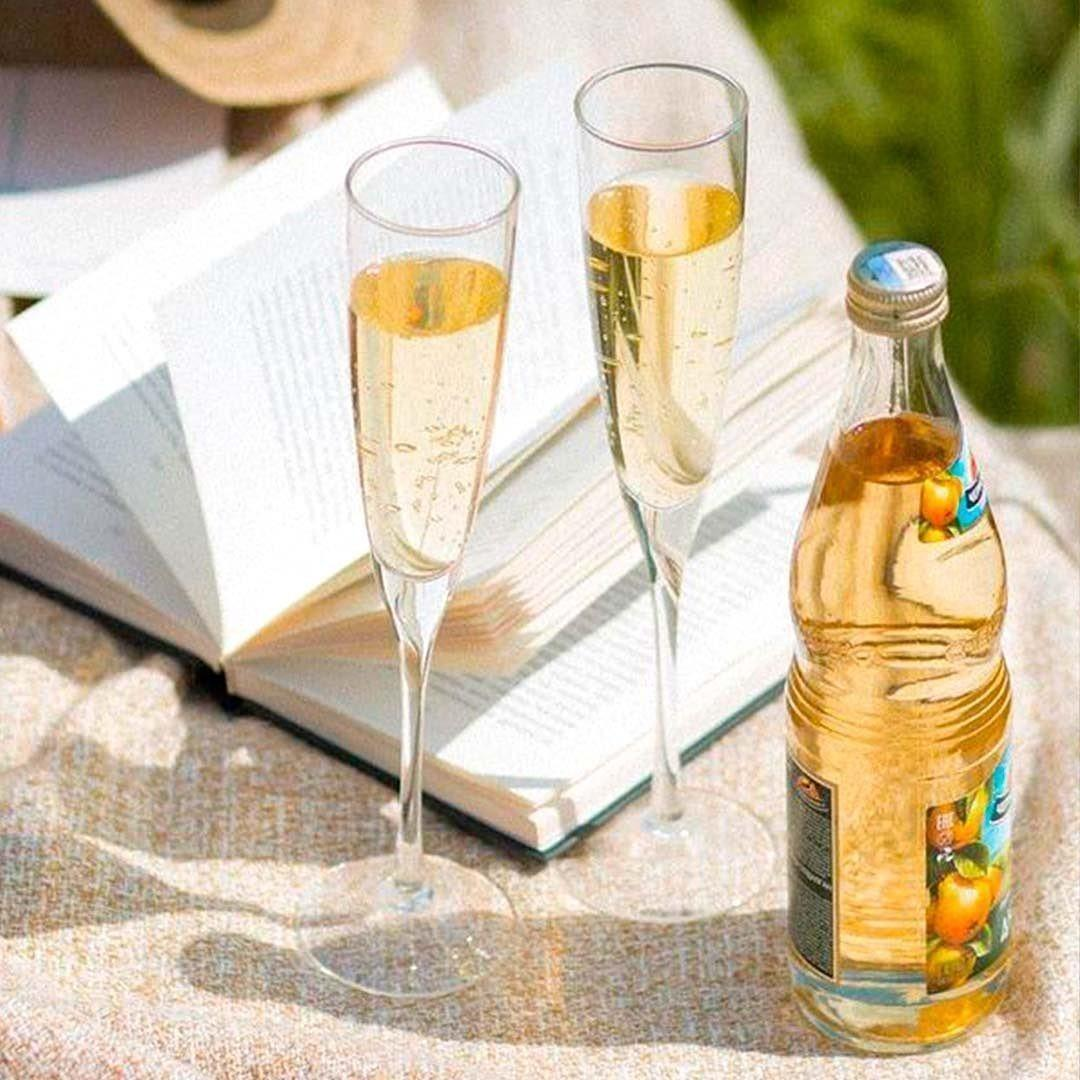bottle-glass: (757, 227, 1033, 1067)
glass-wine: (263, 125, 555, 1023), (541, 49, 781, 932)
